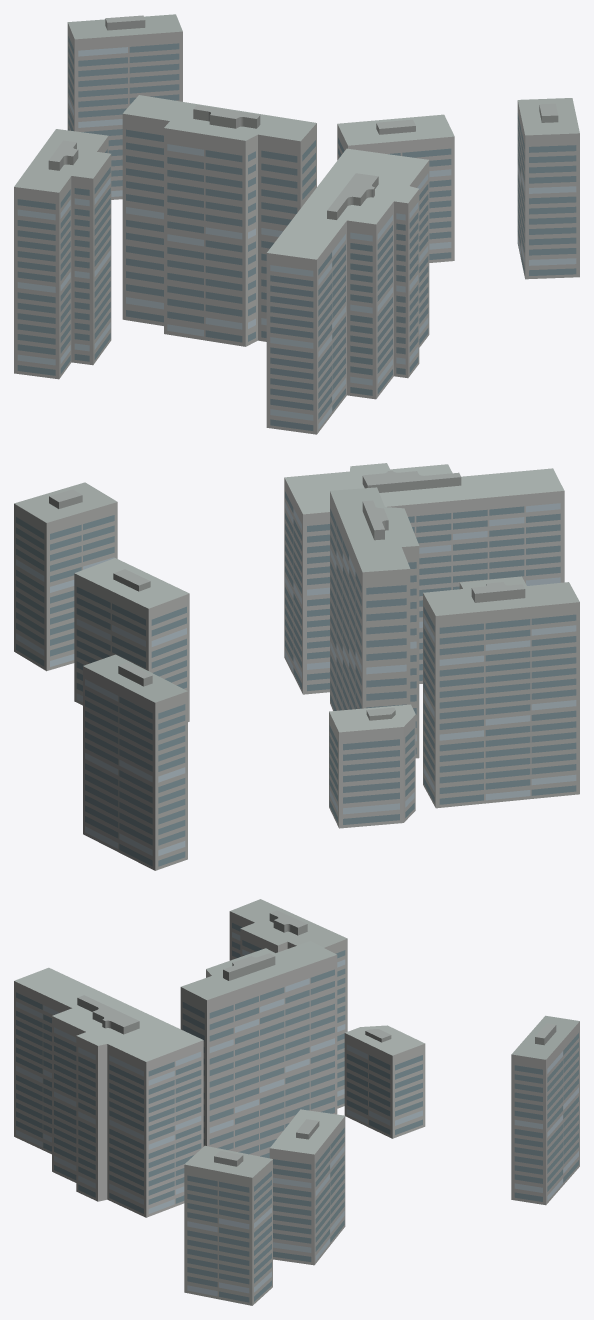
The model's file is apt-a14388204.glb.
3 renders of one model, top to bottom at view 1: azimuth 30°, elevation 25°; view 2: azimuth 150°, elevation 25°; view 3: azimuth 270°, elevation 25°, orthographic. The views are drawn at different scales.
Visible parts, largest first — view 1: apt-a14388204; view 2: apt-a14388204; view 3: apt-a14388204.
Boxes of the visible parts, box(x1,y1,x2,y2) form: apt-a14388204: box(14, 14, 579, 434); apt-a14388204: box(14, 463, 579, 870); apt-a14388204: box(14, 899, 579, 1305).
Bounding box in the file's own units: 142 × 53 × 141.
